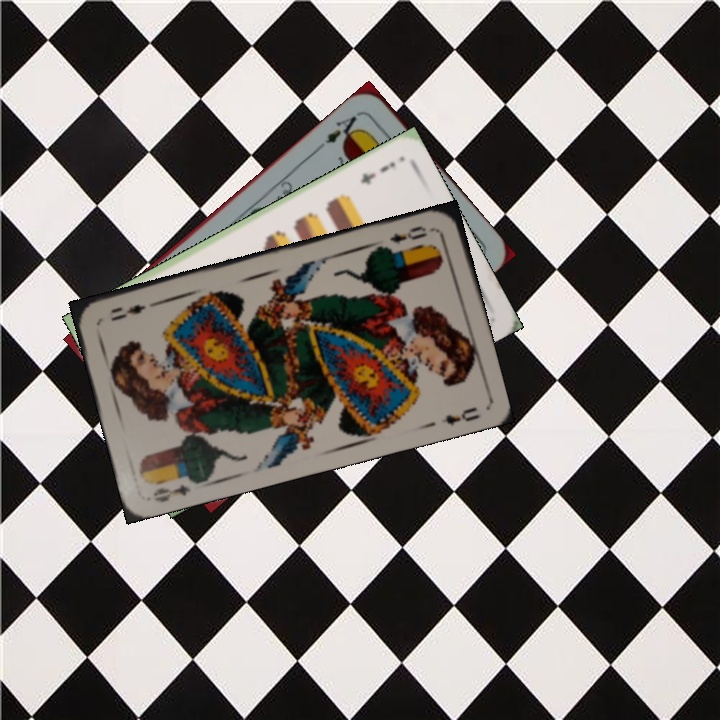E7: (356, 157, 398, 187)
EA: (320, 108, 364, 147)
EO: (385, 221, 431, 247), (149, 480, 193, 505)
